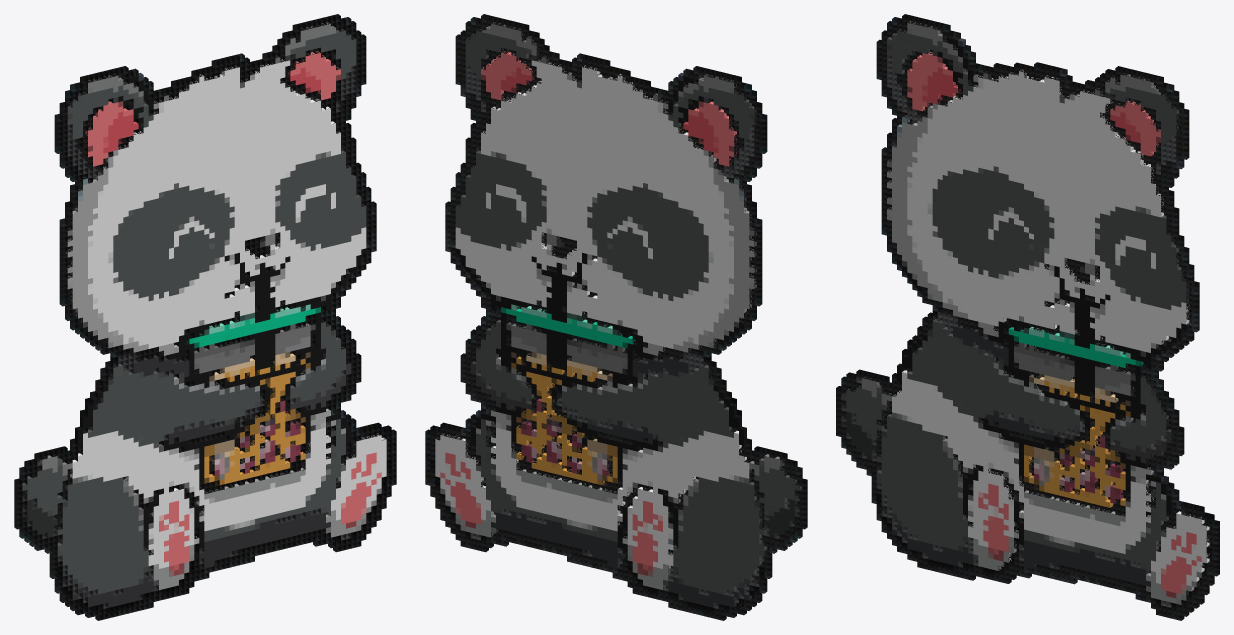
The model's file is pandi_75x103x1.obj.
3 views of the same model, side by side, from view 1: azimuth 30°, elevation 25°; view 2: azimuth 150°, elevation 25°; view 3: azimuth 330°, elevation 25° (orthographic).
Size of the model in its own units: 7.35 by 10.1 by 0.098.
